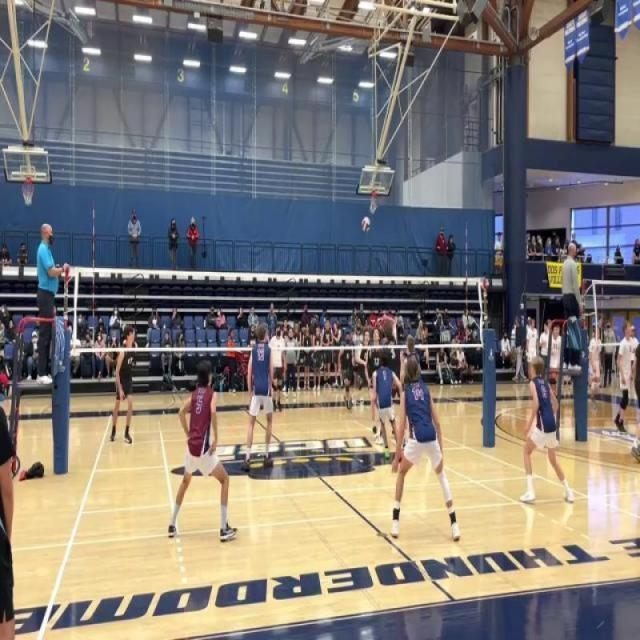volleyball: (361, 216, 371, 233)
